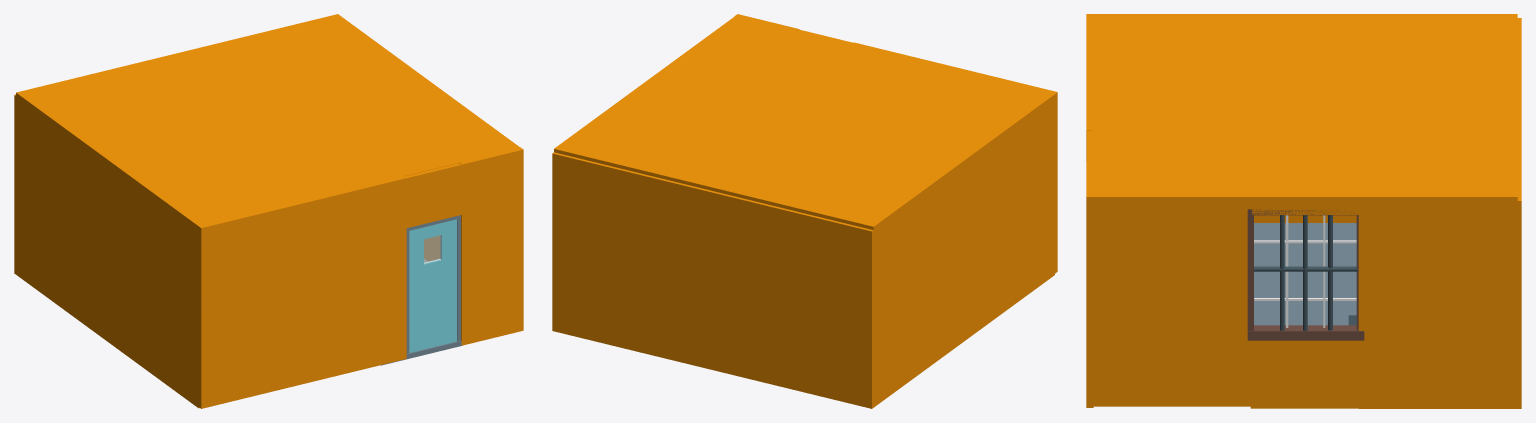
3 renders of one model, left to right at view 1: azimuth 30°, elevation 25°; view 2: azimuth 150°, elevation 25°; view 3: azimuth 270°, elevation 25°, orthographic. The views are drawn at different scales.
Visible parts, largest first — view 1: group1343629360, group443909405, group864646797, group1255162793, group1730349326, group617300623, group1545500596, group977642397, group1249541490, group961795328; view 2: group1343629360, group2141668612, group864646797, group443909405; view 3: group1343629360, group347012380, group1809020442, group837023716, group2037707890, group2141668612, group1255162793, group1568230058, group2023098286, group443909405, group773443890, group864646797 (+4 smaller).
Boxes of the visible parts, x1,y1,x2,y2 form: group1343629360: (16,14,520,230); group443909405: (198,176,406,408); group864646797: (16,97,199,408); group1255162793: (459,147,523,345); group1730349326: (409,256,456,352); group617300623: (404,163,461,227); group1545500596: (441,219,456,259); group977642397: (409,227,423,267); group1249541490: (457,215,460,341); group961795328: (406,230,409,353); group1343629360: (554,16,1054,230); group2141668612: (552,152,873,408); group864646797: (873,100,1054,407); group443909405: (851,42,1057,273); group1343629360: (1092,14,1517,202); group347012380: (1358,202,1516,408); group1809020442: (1093,200,1251,406); group837023716: (1254,223,1356,325); group2037707890: (1250,340,1358,408); group2141668612: (1517,18,1521,408); group1255162793: (1086,162,1093,407); group1568230058: (1247,325,1364,340); group2023098286: (1252,202,1358,214); group443909405: (1086,14,1092,161); group773443890: (1247,215,1253,330); group864646797: (1254,215,1356,222).
Size of the model in its own units: 9.78 by 5.28 by 9.83.
